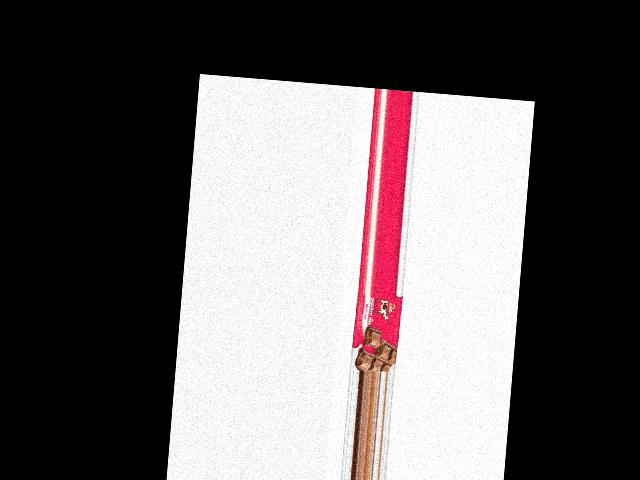chocolate: (349, 291, 401, 373)
